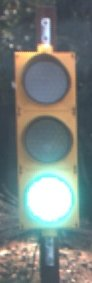Green: (6, 29, 83, 237)
